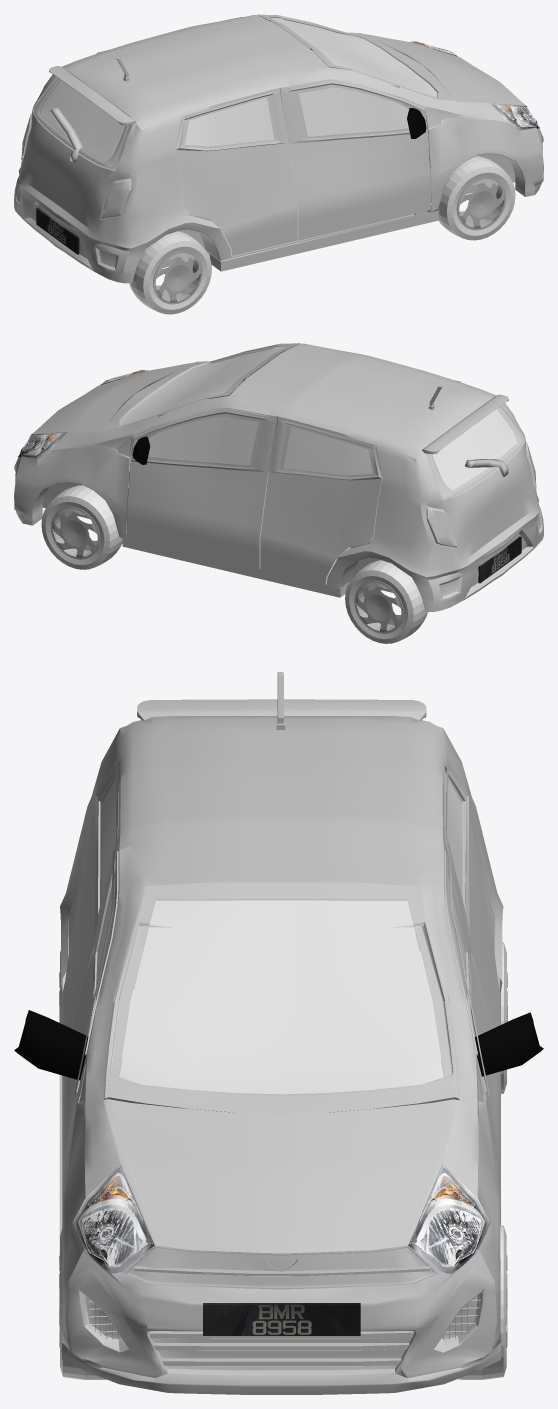
File: AXIA LOW POLY.fbx
3 views of the same model, one above another, from view 1: azimuth 30°, elevation 25°; view 2: azimuth 150°, elevation 25°; view 3: azimuth 270°, elevation 25° (orthographic). The views are drawn at different scales.
Visible parts, largest first — view 1: Body Axia.001, Circle.007, Circle.005, Body Axia.008, Plane.001, Cube.004, Body Axia.007, Lampu Depan.001, Body Axia.009, Cube.016, Body Axia.011, Cube.002 (+2 smaller); view 2: Body Axia.001, Circle.004, Circle.008, Body Axia.008, Plane.001, Cube.004, Body Axia.007, Body Axia.009, Lampu Depan.001, Cube.016, Body Axia.011, Body Axia.010 (+2 smaller); view 3: Body Axia.001, Lampu Depan.001, Body Axia.011, Side Mirror.001, Cube.017, Cube.004, Body Axia.008, Cube.007, Cube.015, Cube.003, Circle.008, Plane.001 (+2 smaller).
Part boxes in pixels (x1,y1,x2,y2): Body Axia.001: [14, 15, 543, 283]; Circle.007: [129, 231, 211, 314]; Circle.005: [437, 156, 515, 240]; Body Axia.008: [96, 17, 425, 151]; Plane.001: [161, 72, 515, 271]; Cube.004: [49, 66, 135, 125]; Body Axia.007: [21, 113, 132, 220]; Lampu Depan.001: [409, 41, 539, 130]; Body Axia.009: [33, 78, 129, 167]; Cube.016: [36, 208, 79, 254]; Body Axia.011: [258, 14, 437, 98]; Cube.002: [49, 107, 83, 163]; Body Axia.001: [14, 343, 543, 612]; Circle.004: [345, 560, 427, 643]; Circle.008: [41, 485, 122, 569]; Body Axia.008: [131, 381, 460, 480]; Plane.001: [42, 398, 392, 597]; Cube.004: [422, 394, 508, 454]; Body Axia.007: [425, 442, 536, 548]; Body Axia.009: [428, 406, 524, 496]; Lampu Depan.001: [18, 369, 148, 458]; Cube.016: [478, 536, 521, 583]; Body Axia.011: [120, 343, 299, 427]; Body Axia.010: [439, 511, 542, 598]; Body Axia.001: [60, 716, 503, 1394]; Lampu Depan.001: [72, 1164, 490, 1273]; Body Axia.011: [111, 882, 451, 1076]; Side Mirror.001: [14, 1010, 543, 1080]; Cube.017: [203, 1303, 360, 1335]; Cube.004: [137, 699, 426, 720]; Body Axia.008: [74, 757, 489, 1096]; Cube.007: [161, 1358, 401, 1366]; Cube.015: [153, 1343, 409, 1350]; Cube.003: [134, 1266, 429, 1276]; Circle.008: [457, 1225, 507, 1379]; Plane.001: [59, 899, 477, 1254].
Bounding box in the file's own units: 504 × 229 × 266.
